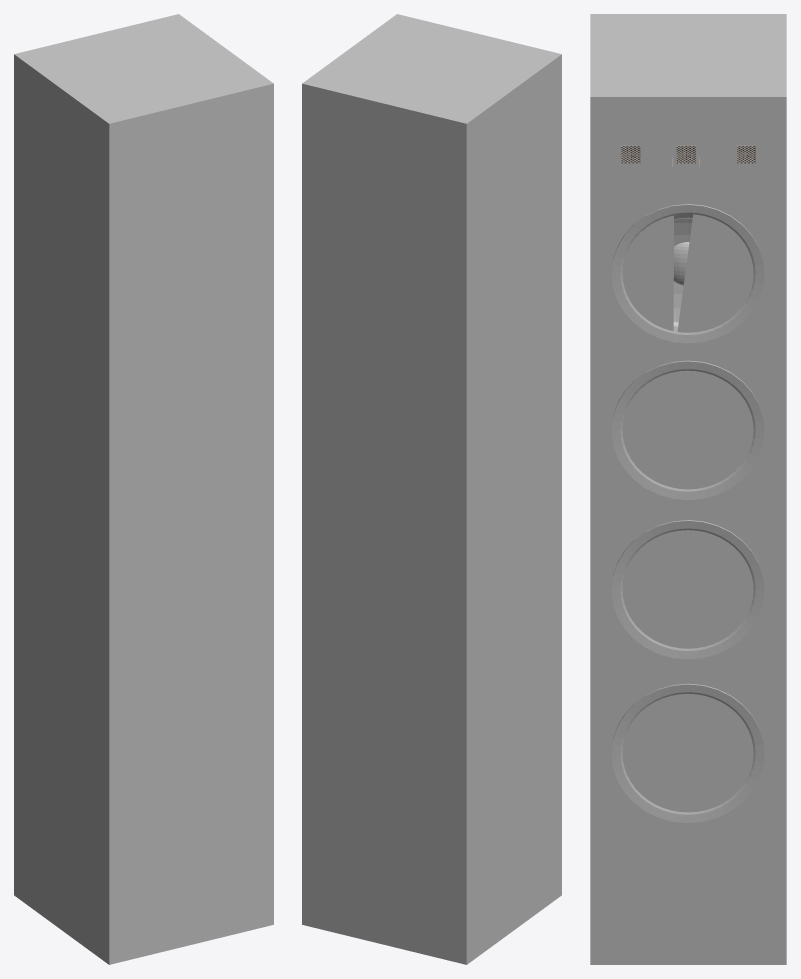
The model's file is audioColumn1.fbx.
The picture shows the model from 3 angles, left to right: view 1: azimuth 30°, elevation 25°; view 2: azimuth 150°, elevation 25°; view 3: azimuth 270°, elevation 25°; orthographic projection. The views are drawn at different scales.
Parts seen in each view (by area): view 1: Cube; view 2: Cube; view 3: Cube, Cylinder.003, Cylinder.001, Cylinder, Cylinder.002.
Part boxes in pixels (x1,y1,x2,y2): Cube: (14,14,273,964); Cube: (302,14,561,964); Cube: (590,14,786,964); Cylinder.003: (611,204,764,343); Cylinder.001: (611,520,764,659); Cylinder: (611,683,764,823); Cylinder.002: (611,360,764,499).
Bounding box in the file's own units: 202 × 976 × 200.
